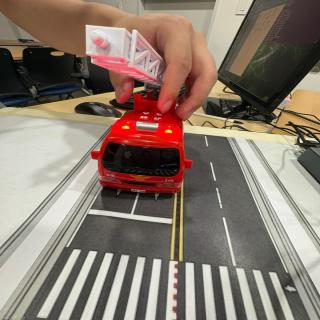Fire_truck: (92, 91, 192, 198)
